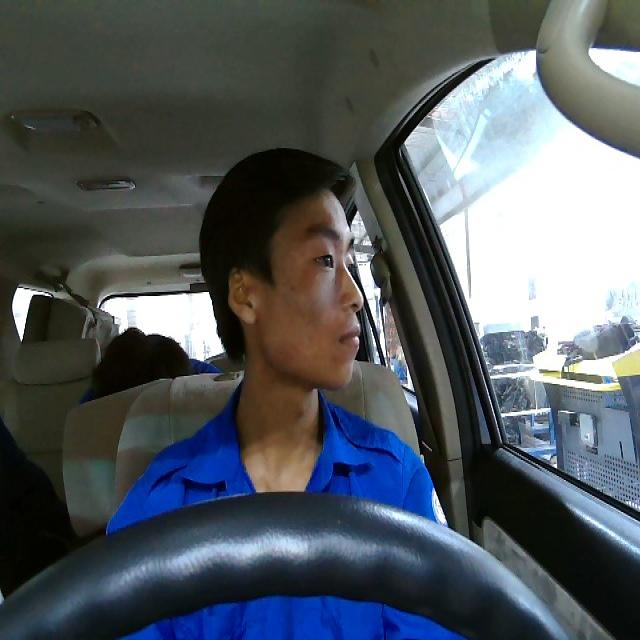seeing_right: (225, 184, 364, 391)
